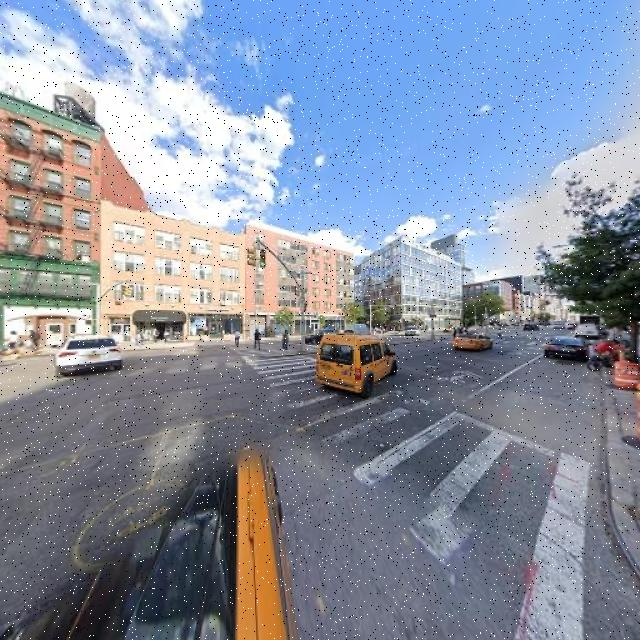Building: (1, 94, 99, 352), (104, 205, 244, 347), (247, 220, 353, 339), (364, 239, 463, 332)
